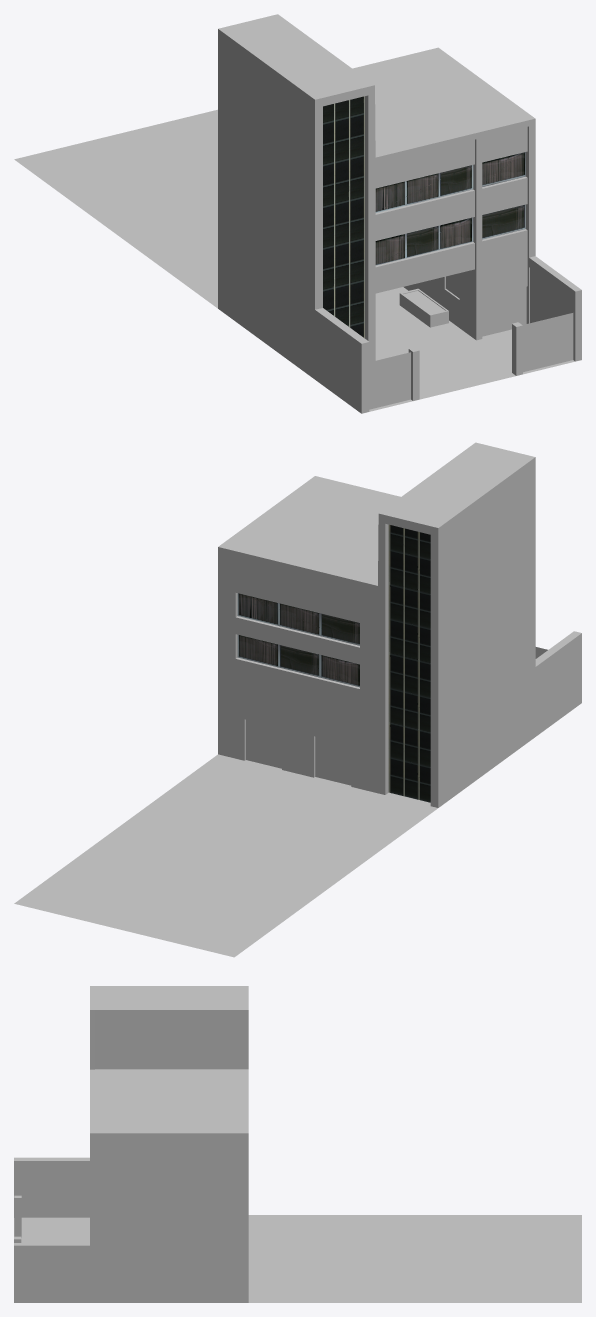
3 renders of one model, top to bottom at view 1: azimuth 30°, elevation 25°; view 2: azimuth 150°, elevation 25°; view 3: azimuth 270°, elevation 25°, orthographic. The views are drawn at different scales.
Visible parts, largest first — view 1: BB-020; view 2: BB-020; view 3: BB-020.
Boxes of the visible parts, box(x1,y1,x2,y2) form: BB-020: box(14, 14, 581, 413); BB-020: box(14, 442, 581, 957); BB-020: box(14, 986, 581, 1302).
Size of what is drawn, in the model's own units: 13.18 by 16 by 36.
